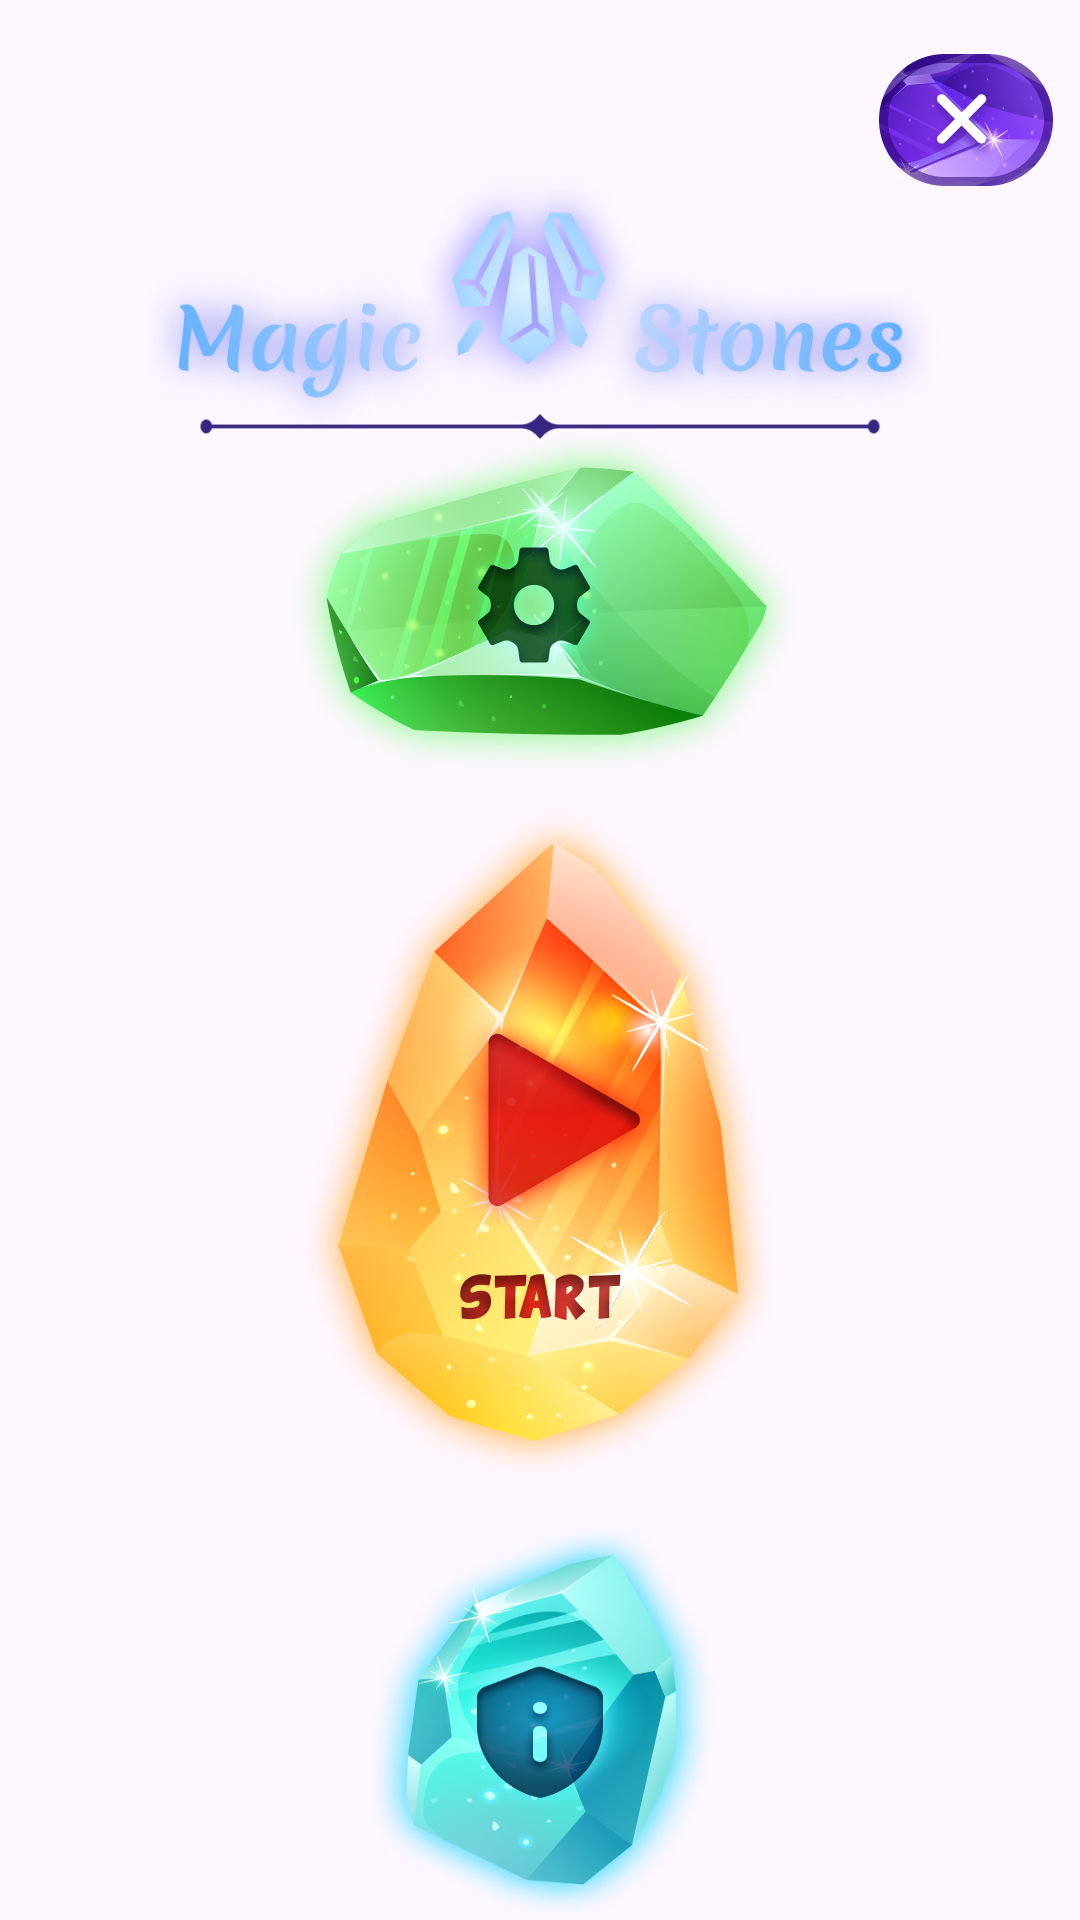

Locate icon controls on the screen. Image size 1080px×1920px, boxes as Rect(x1, y1, x2, y2).
exit sel: Rect(879, 54, 1053, 186)
